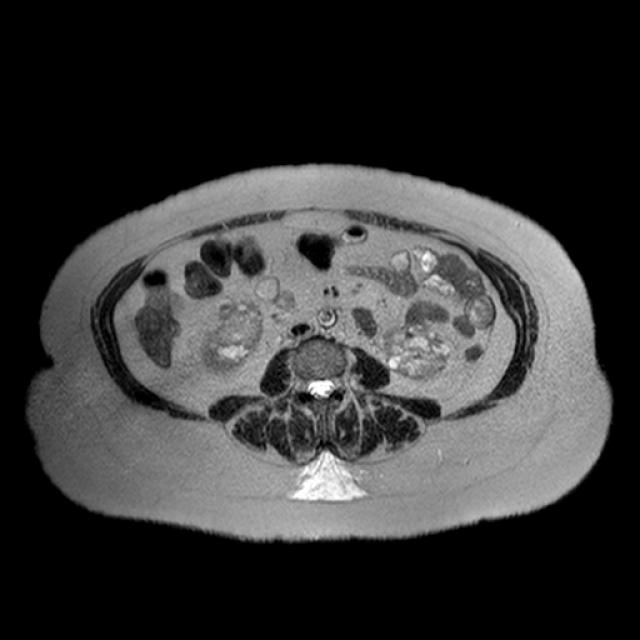sag: (196, 301, 265, 376)
sol: (381, 322, 450, 381)
